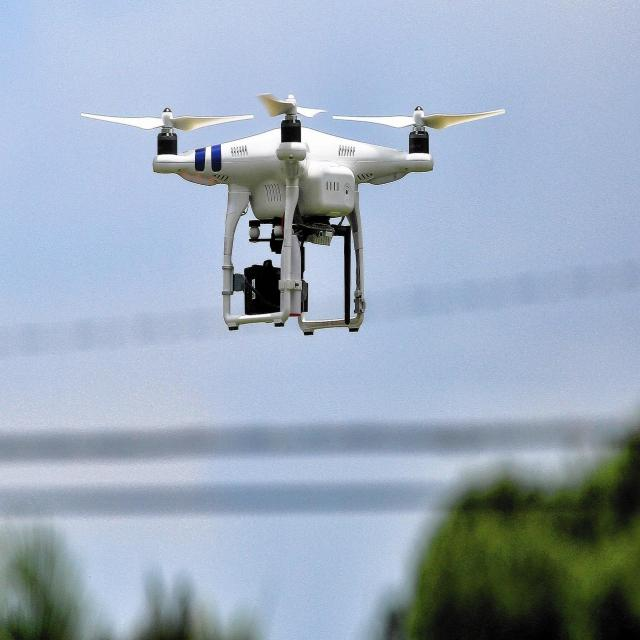drone: (78, 86, 509, 338)
